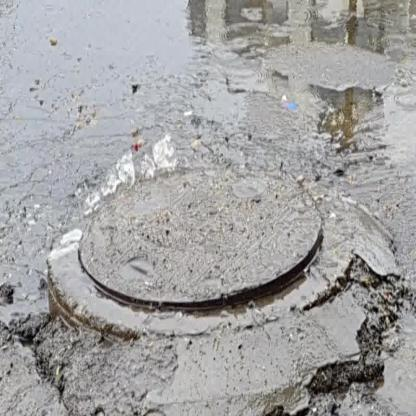drainage overflow-repair-: (0, 78, 333, 366)
